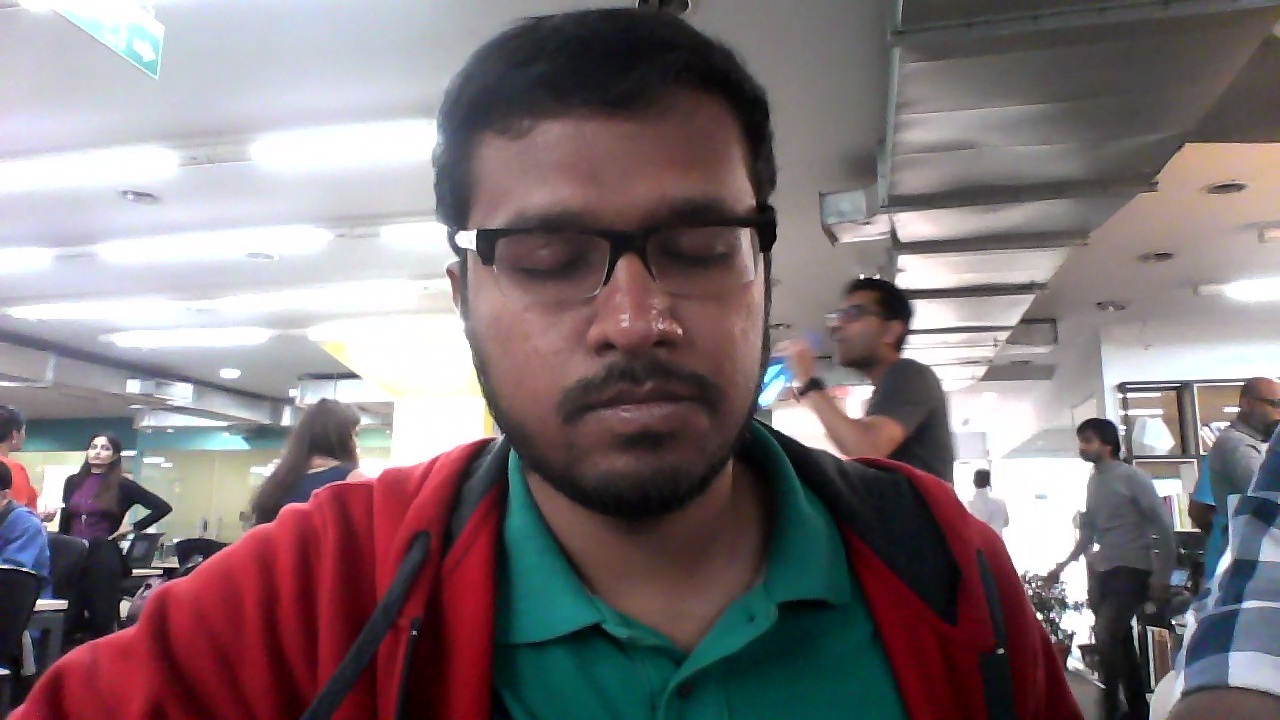closed: (427, 3, 793, 529)
